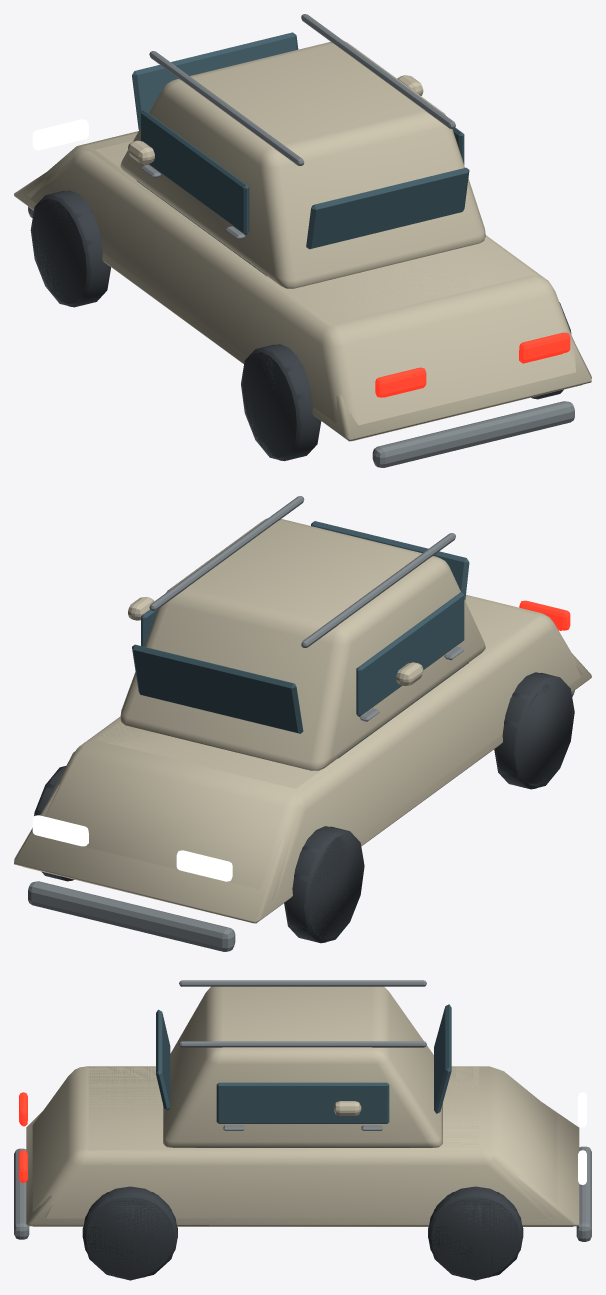
Rendered from city_suv.glb.
3 renders of one model, top to bottom at view 1: azimuth 30°, elevation 25°; view 2: azimuth 150°, elevation 25°; view 3: azimuth 270°, elevation 25°, orthographic. The views are drawn at different scales.
Visible parts, largest first — view 1: LOD0_city_suv_LowerBody, LOD0_city_suv_Cabin, LOD1_city_suv_Body, LOD0_city_suv_RearGlass, LOD2_city_suv_Body, LOD0_city_suv_Wheel_RL, LOD0_city_suv_Wheel_FL, LOD0_city_suv_SideGlass_L, LOD0_city_suv_RearBumper, LOD0_city_suv_Windshield, LOD1_city_suv_Wheel_FL, LOD0_city_suv_RoofRail_L (+5 smaller); view 2: LOD0_city_suv_Cabin, LOD0_city_suv_LowerBody, LOD1_city_suv_Body, LOD2_city_suv_Body, LOD0_city_suv_Windshield, LOD0_city_suv_FrontBumper, LOD0_city_suv_SideGlass_L, LOD1_city_suv_Wheel_RL, LOD0_city_suv_Wheel_FL, LOD1_city_suv_Wheel_FL, LOD0_city_suv_Wheel_RL, LOD0_city_suv_RoofRail_R (+5 smaller); view 3: LOD0_city_suv_LowerBody, LOD0_city_suv_Cabin, LOD1_city_suv_Body, LOD0_city_suv_SideGlass_R, LOD2_city_suv_Body, LOD0_city_suv_Wheel_FR, LOD0_city_suv_Wheel_RR, LOD1_city_suv_Wheel_FR, LOD1_city_suv_Wheel_RR, LOD0_city_suv_RoofRail_L, LOD0_city_suv_RoofRail_R, LOD0_city_suv_Windshield (+3 smaller).
Boxes of the visible parts, x1,y1,x2,y2 form: LOD0_city_suv_LowerBody: (30,140,575,425); LOD0_city_suv_Cabin: (120,41,485,288); LOD1_city_suv_Body: (27,131,582,441); LOD0_city_suv_RearGlass: (306,167,469,249); LOD2_city_suv_Body: (14,163,591,441); LOD0_city_suv_Wheel_RL: (242,344,318,460); LOD0_city_suv_Wheel_FL: (32,190,108,306); LOD0_city_suv_SideGlass_L: (141,110,249,234); LOD0_city_suv_RearBumper: (372,401,574,467); LOD0_city_suv_Windshield: (132,32,298,129); LOD1_city_suv_Wheel_FL: (30,191,110,307); LOD0_city_suv_RoofRail_L: (149,51,304,165); LOD0_city_suv_Cabin: (120,518,485,770); LOD0_city_suv_LowerBody: (76,594,580,900); LOD1_city_suv_Body: (23,599,581,923); LOD2_city_suv_Body: (14,653,591,923); LOD0_city_suv_Windshield: (132,644,303,733); LOD0_city_suv_FrontBumper: (28,881,235,951); LOD0_city_suv_SideGlass_L: (356,592,464,716); LOD1_city_suv_Wheel_RL: (494,673,574,789); LOD0_city_suv_Wheel_FL: (286,826,362,942); LOD1_city_suv_Wheel_FL: (284,826,364,943); LOD0_city_suv_Wheel_RL: (496,672,572,788); LOD0_city_suv_RoofRail_R: (149,496,304,610); LOD0_city_suv_LowerBody: (32,1066,548,1218); LOD0_city_suv_Cabin: (163,986,442,1147); LOD1_city_suv_Body: (32,1066,573,1226); LOD0_city_suv_SideGlass_R: (216,1082,389,1123); LOD2_city_suv_Body: (26,1102,579,1226); LOD0_city_suv_Wheel_FR: (428,1186,523,1277); LOD0_city_suv_Wheel_RR: (82,1186,177,1277); LOD1_city_suv_Wheel_FR: (428,1192,523,1280); LOD1_city_suv_Wheel_RR: (82,1192,177,1280); LOD0_city_suv_RoofRail_L: (179,980,426,986); LOD0_city_suv_RoofRail_R: (179,1041,426,1047); LOD0_city_suv_Windshield: (434,1004,451,1113).
Size of what is drawn, in the model's own units: 2.27 by 1.99 by 4.86.
